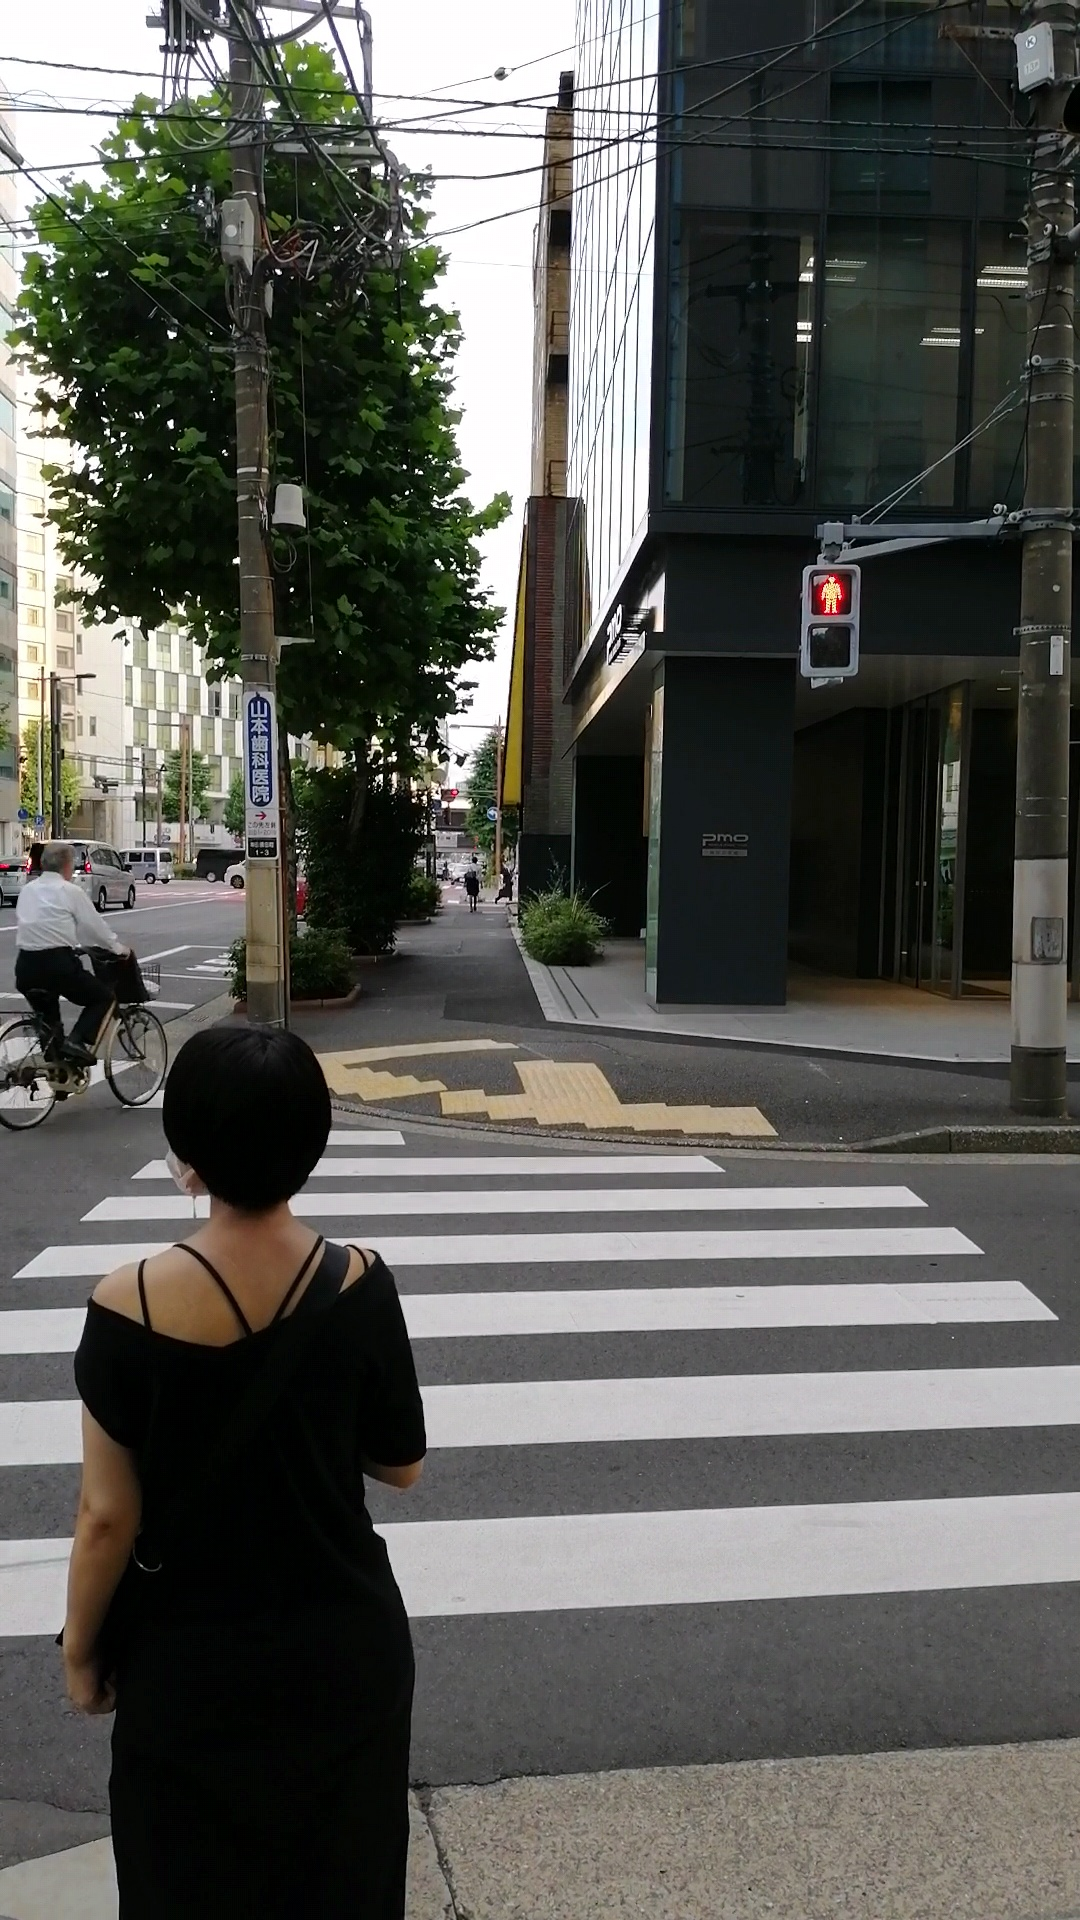red: (799, 564, 861, 676)
